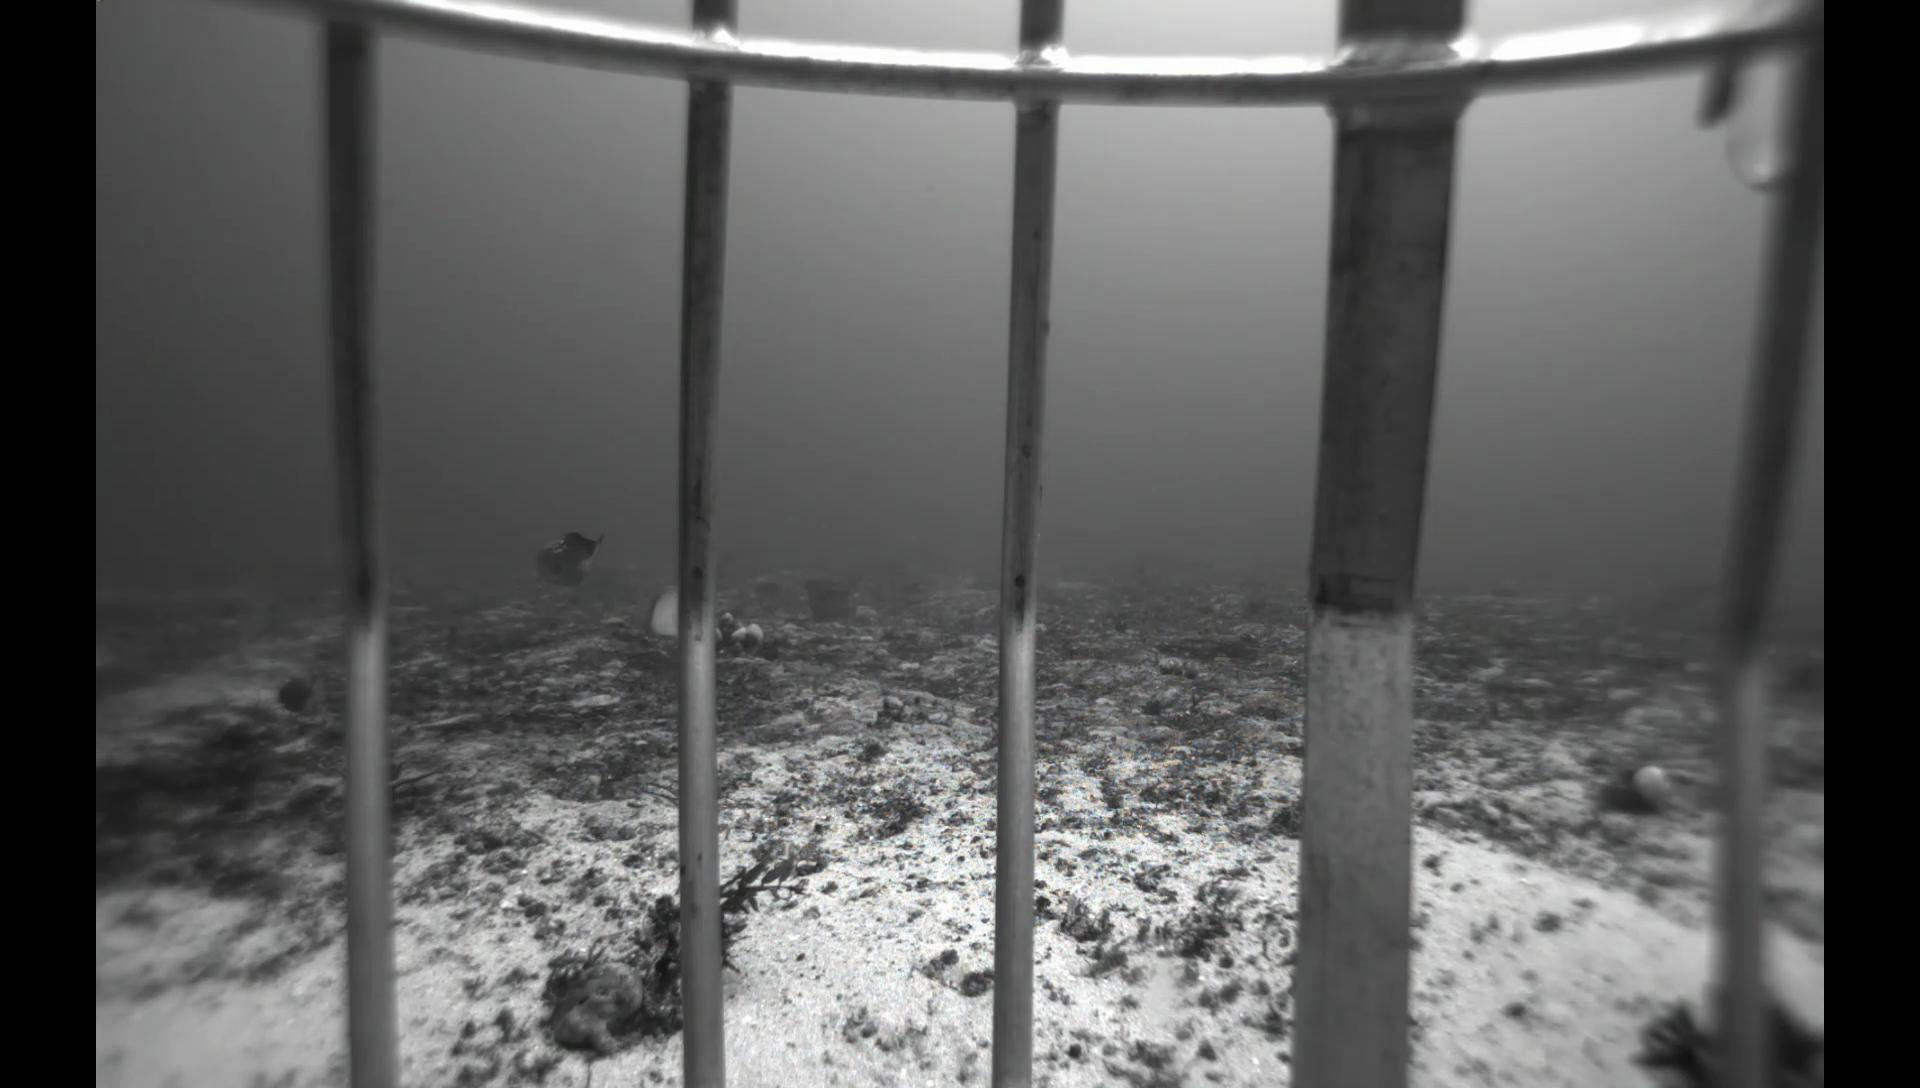CHAETODONOCELLATUS-170260307: (624, 578, 680, 644)
EPINEPHELUSMORIO-170021211: (527, 521, 615, 597)
PRISTIGENYSALTA-170050401: (255, 669, 331, 723)
